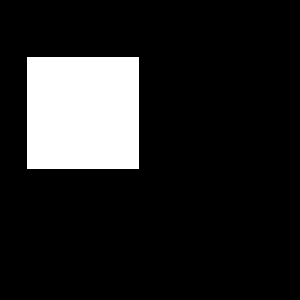circle: (27, 57, 139, 169)
